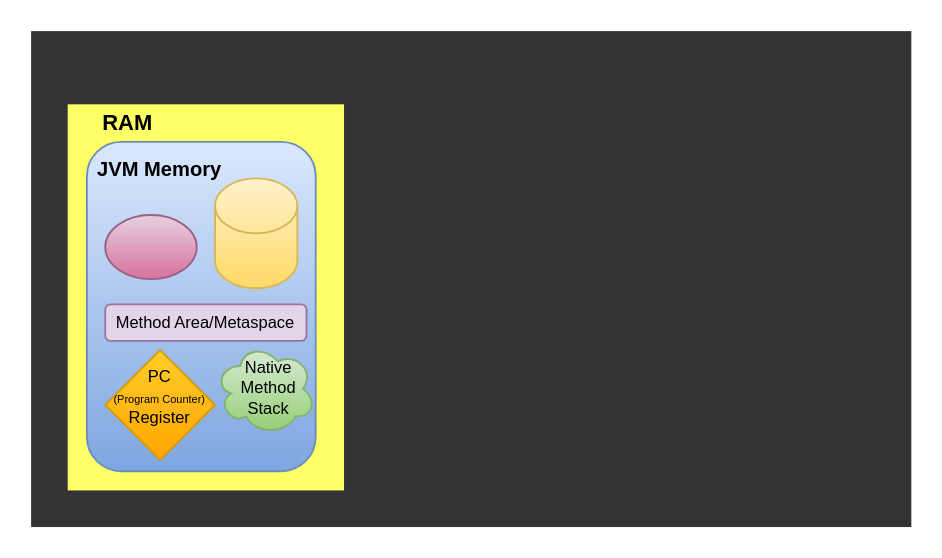
Image size: 942x558. Some labels were removed from this diagram. Here are the shapes that lost their labels. From the top down, the centre of each, then its label:
(x=150, y=246): Heap Memory
(x=255, y=232): Stack Memory
